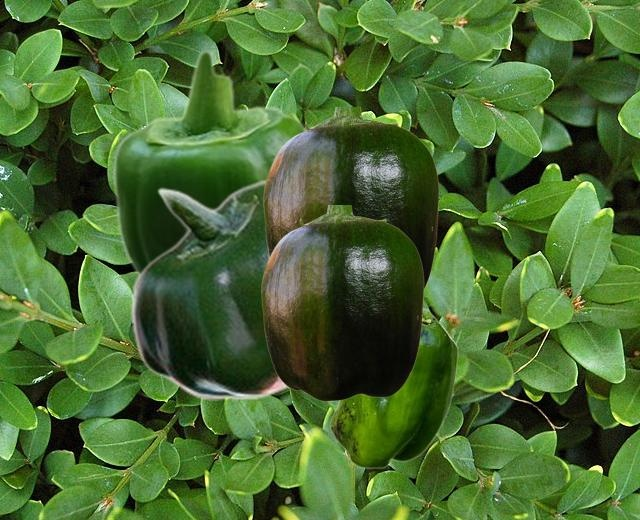bell_pepper: (111, 48, 305, 275), (129, 178, 292, 399), (263, 107, 438, 290), (261, 205, 423, 400), (329, 306, 457, 468)
